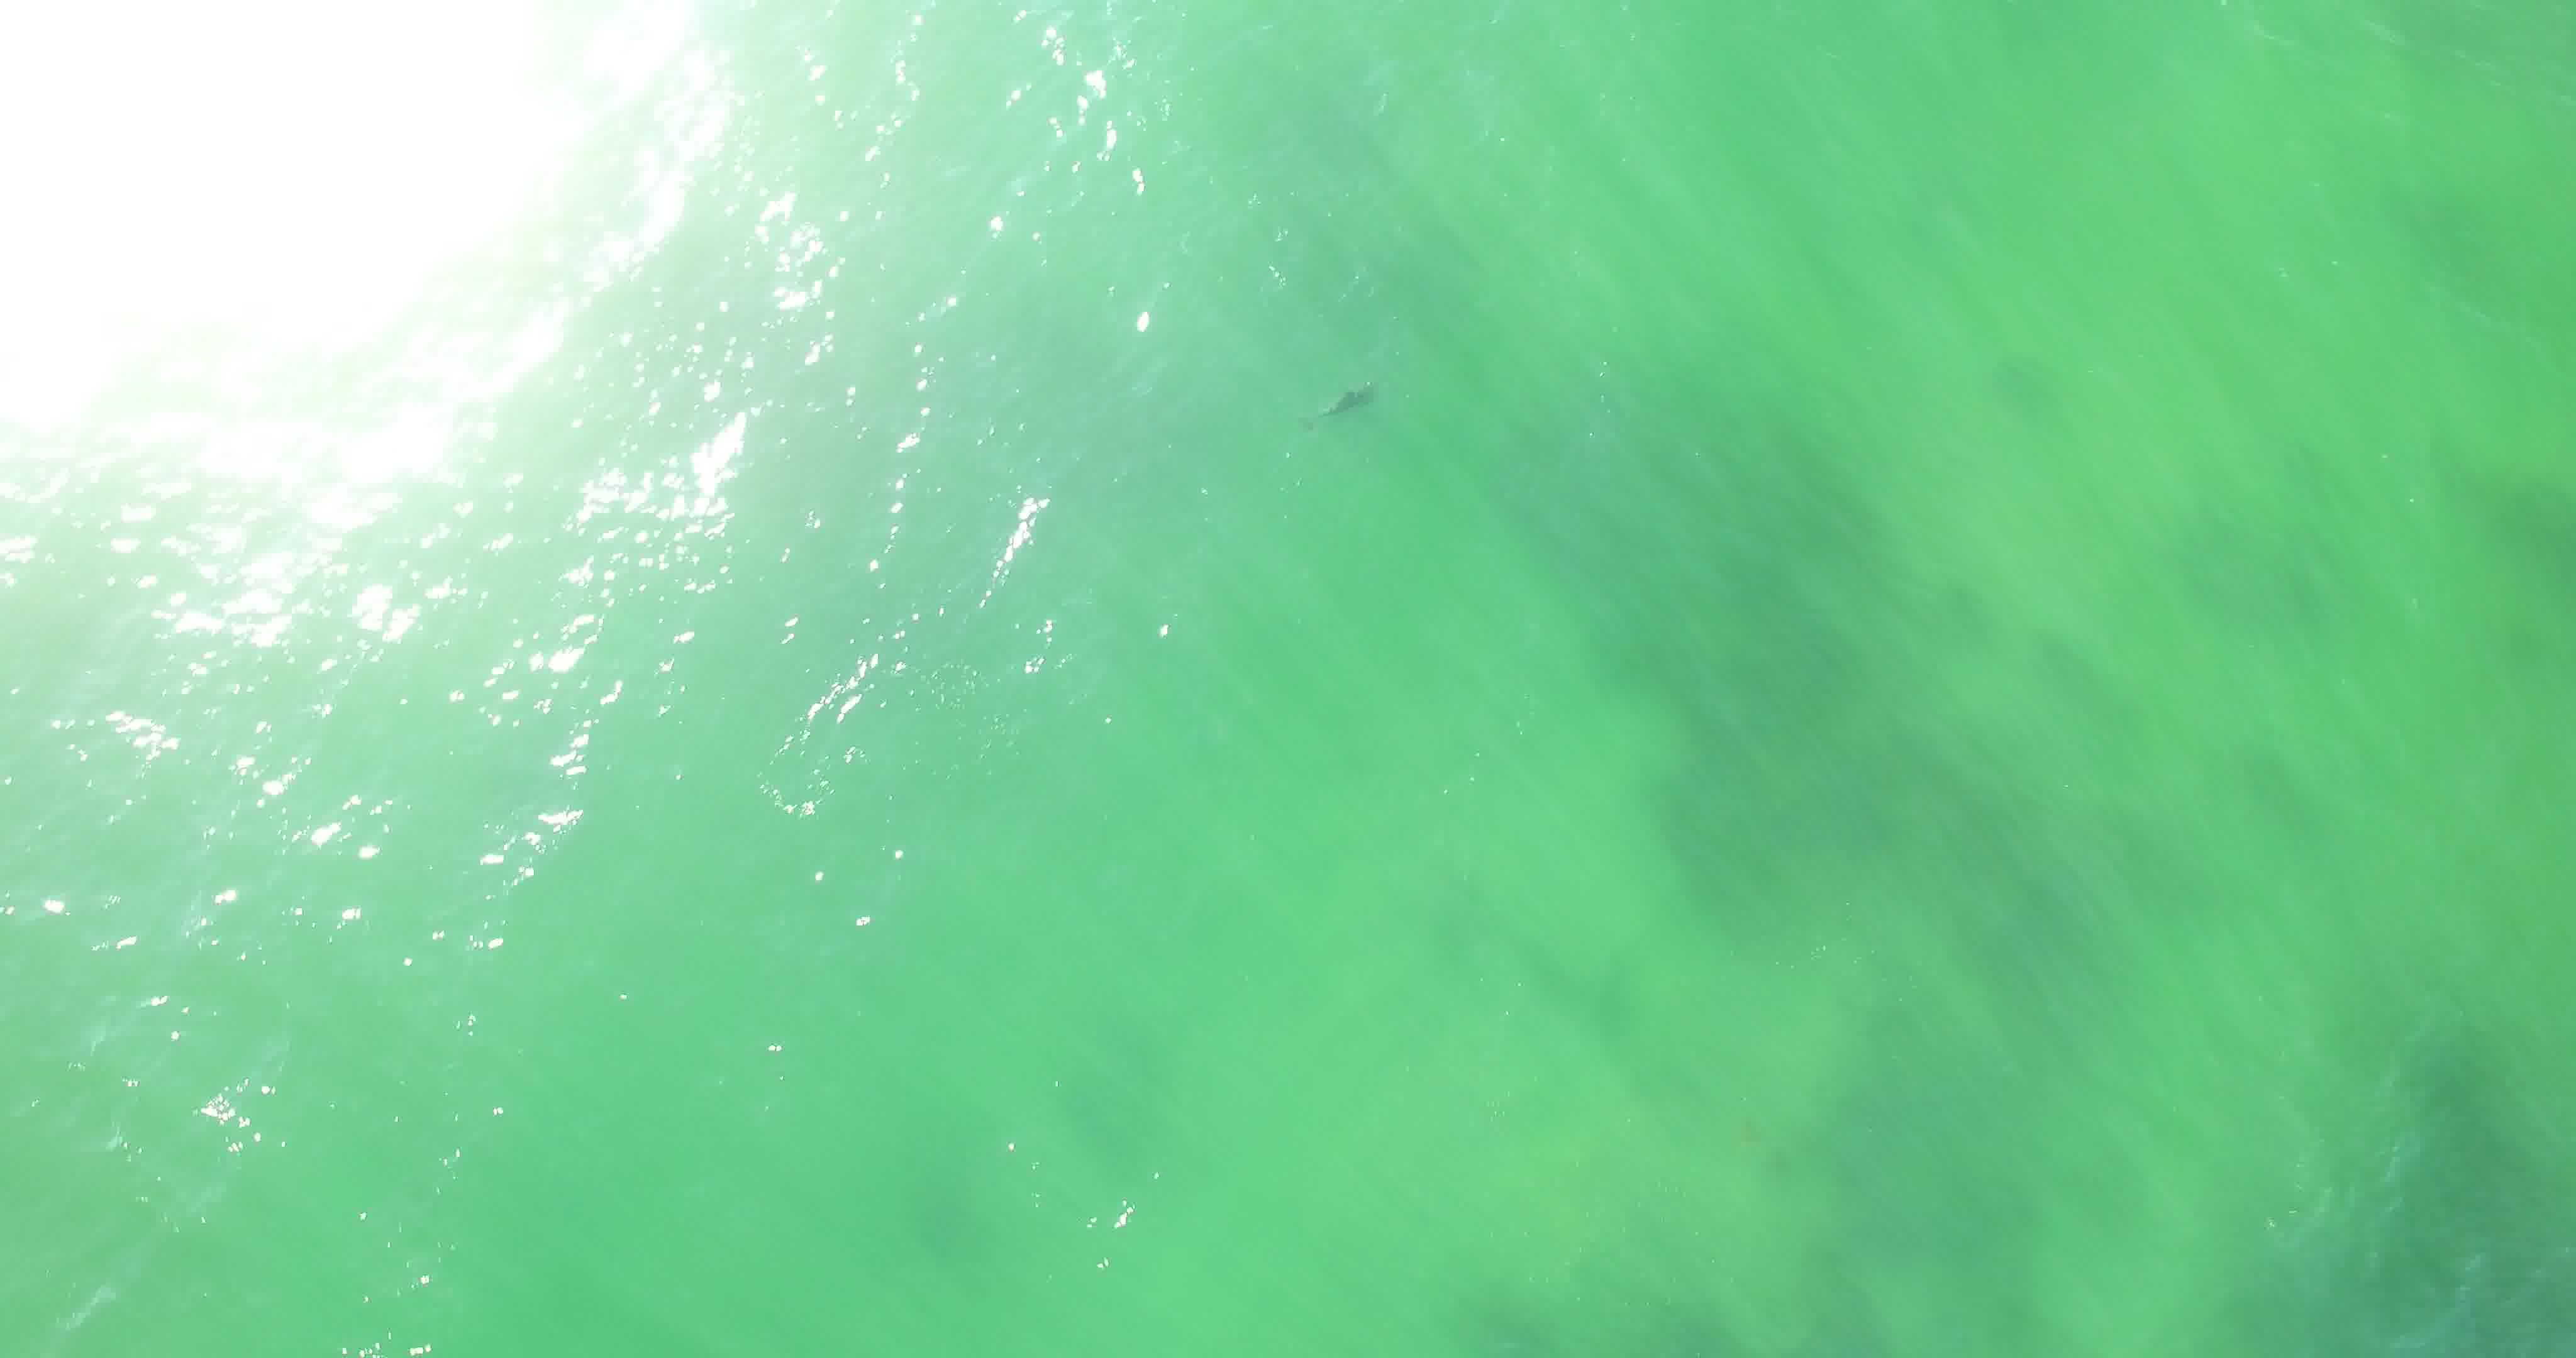dolphin: (1259, 332, 1406, 446)
